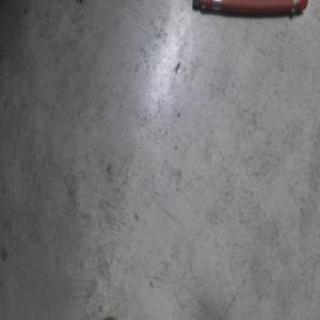Hosetrack_idkeyframe: (190, 0, 308, 18)
